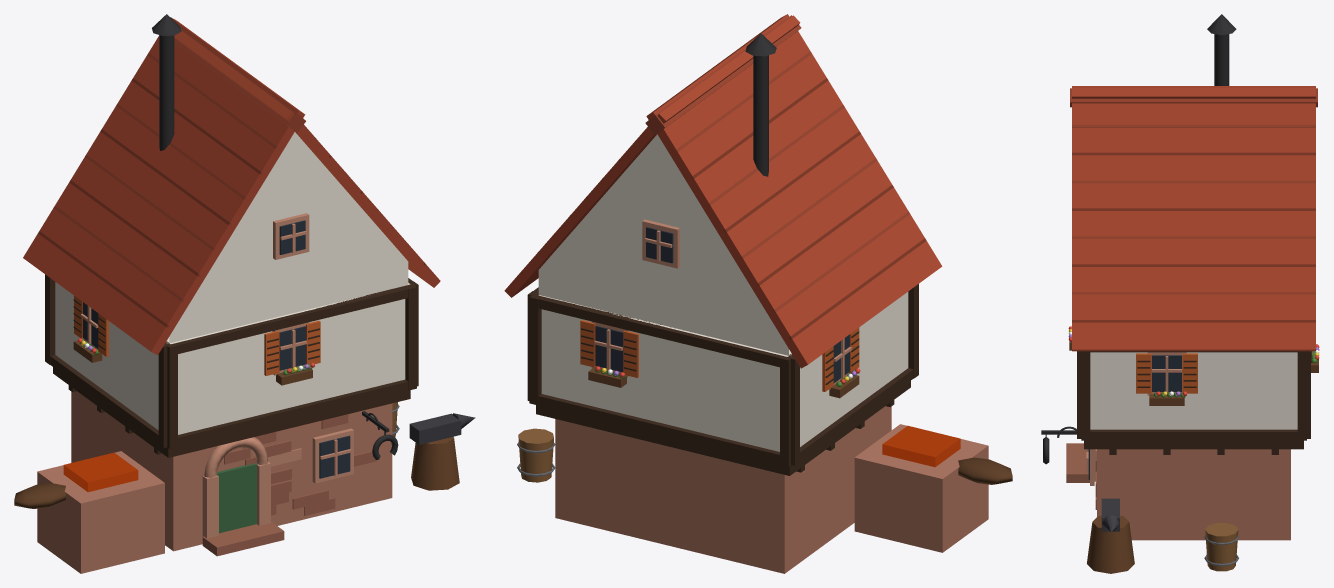
File: schmied.glb
3 views of the same model, side by side, from view 1: azimuth 30°, elevation 25°; view 2: azimuth 150°, elevation 25°; view 3: azimuth 270°, elevation 25° (orthographic). The views are drawn at different scales.
Bounding box in the file's own units: 5.31 × 5.4 × 3.01.
